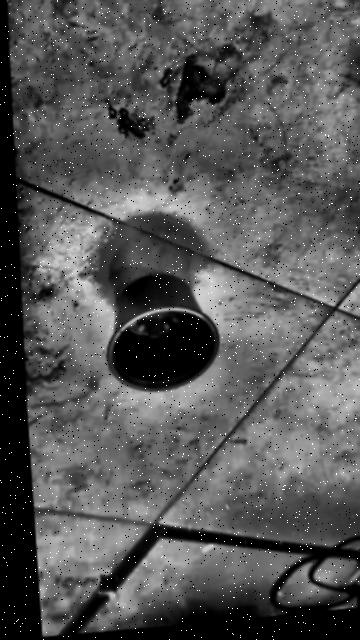pot: (100, 268, 222, 398)
